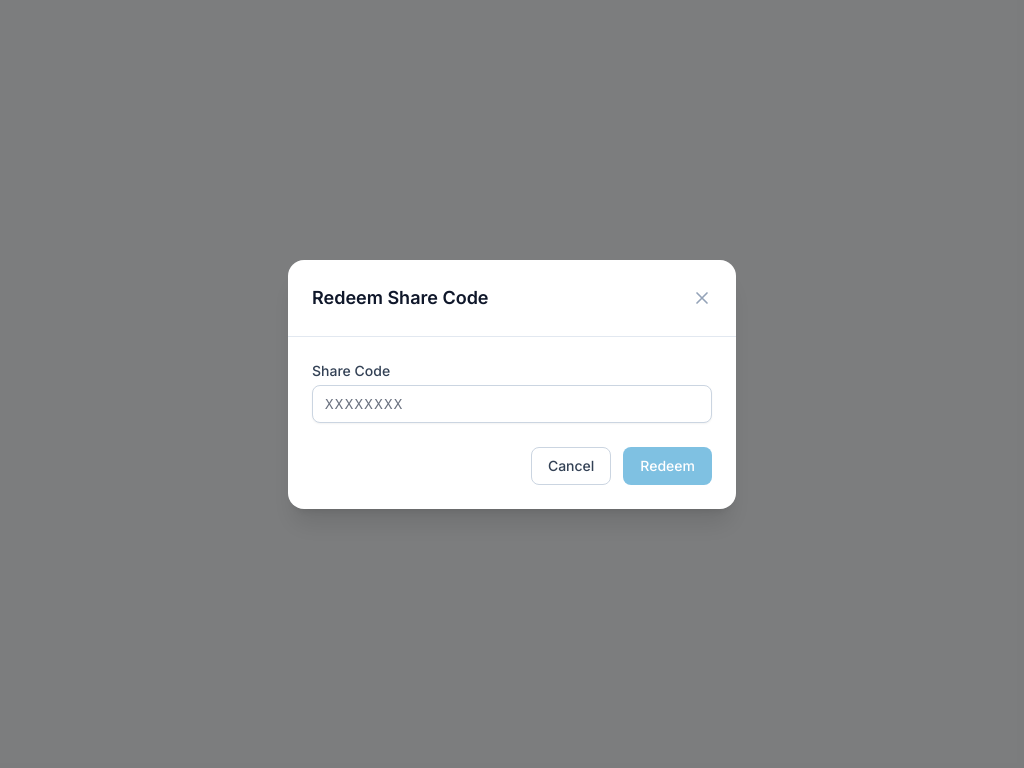
Test: RedeemCodeModal › submit button state › Redeem button is enabled once code is entered
Type "ABCD1234" into the field with id "share-code" at (512, 404), box [312, 384, 712, 422]
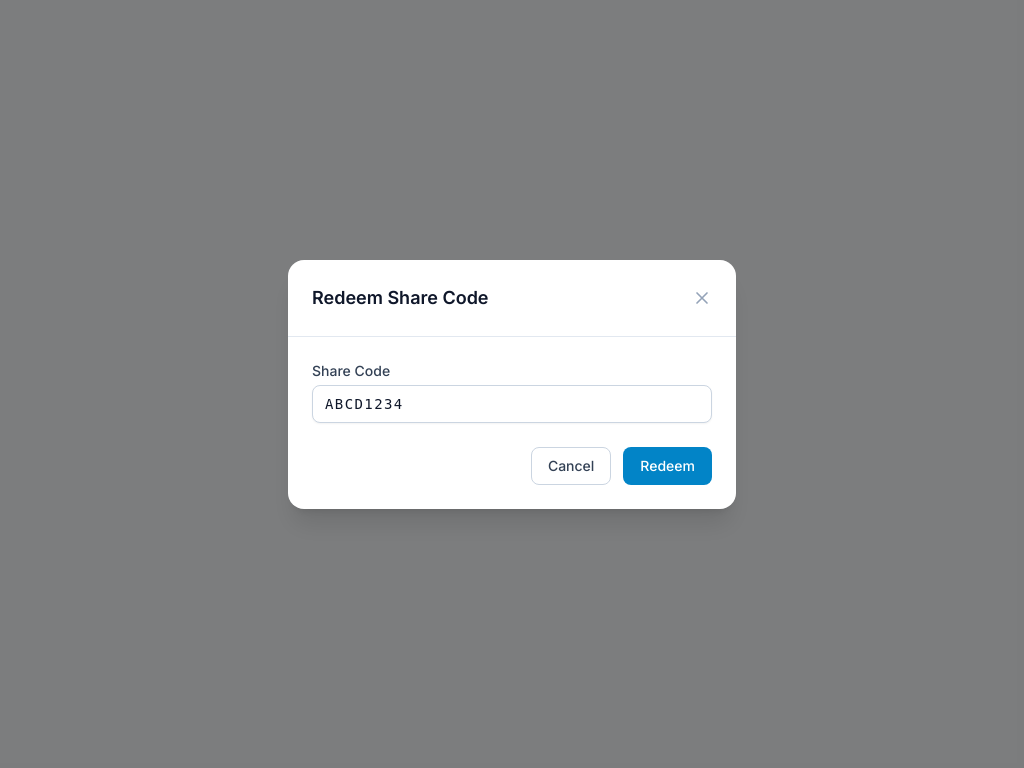
Check: the submit button is enabled, box [623, 446, 712, 484]
